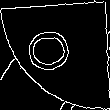O_E: (29, 32, 81, 78)
